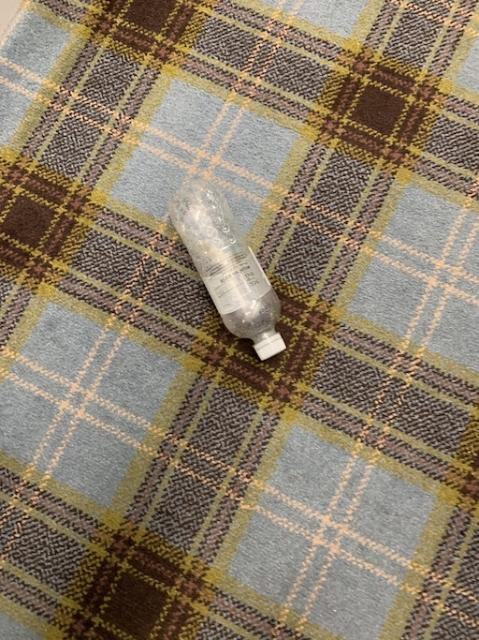plastic: (168, 178, 284, 359)
